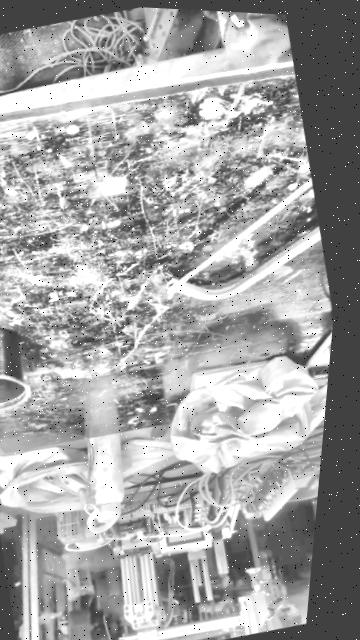pot: (0, 317, 40, 418)
